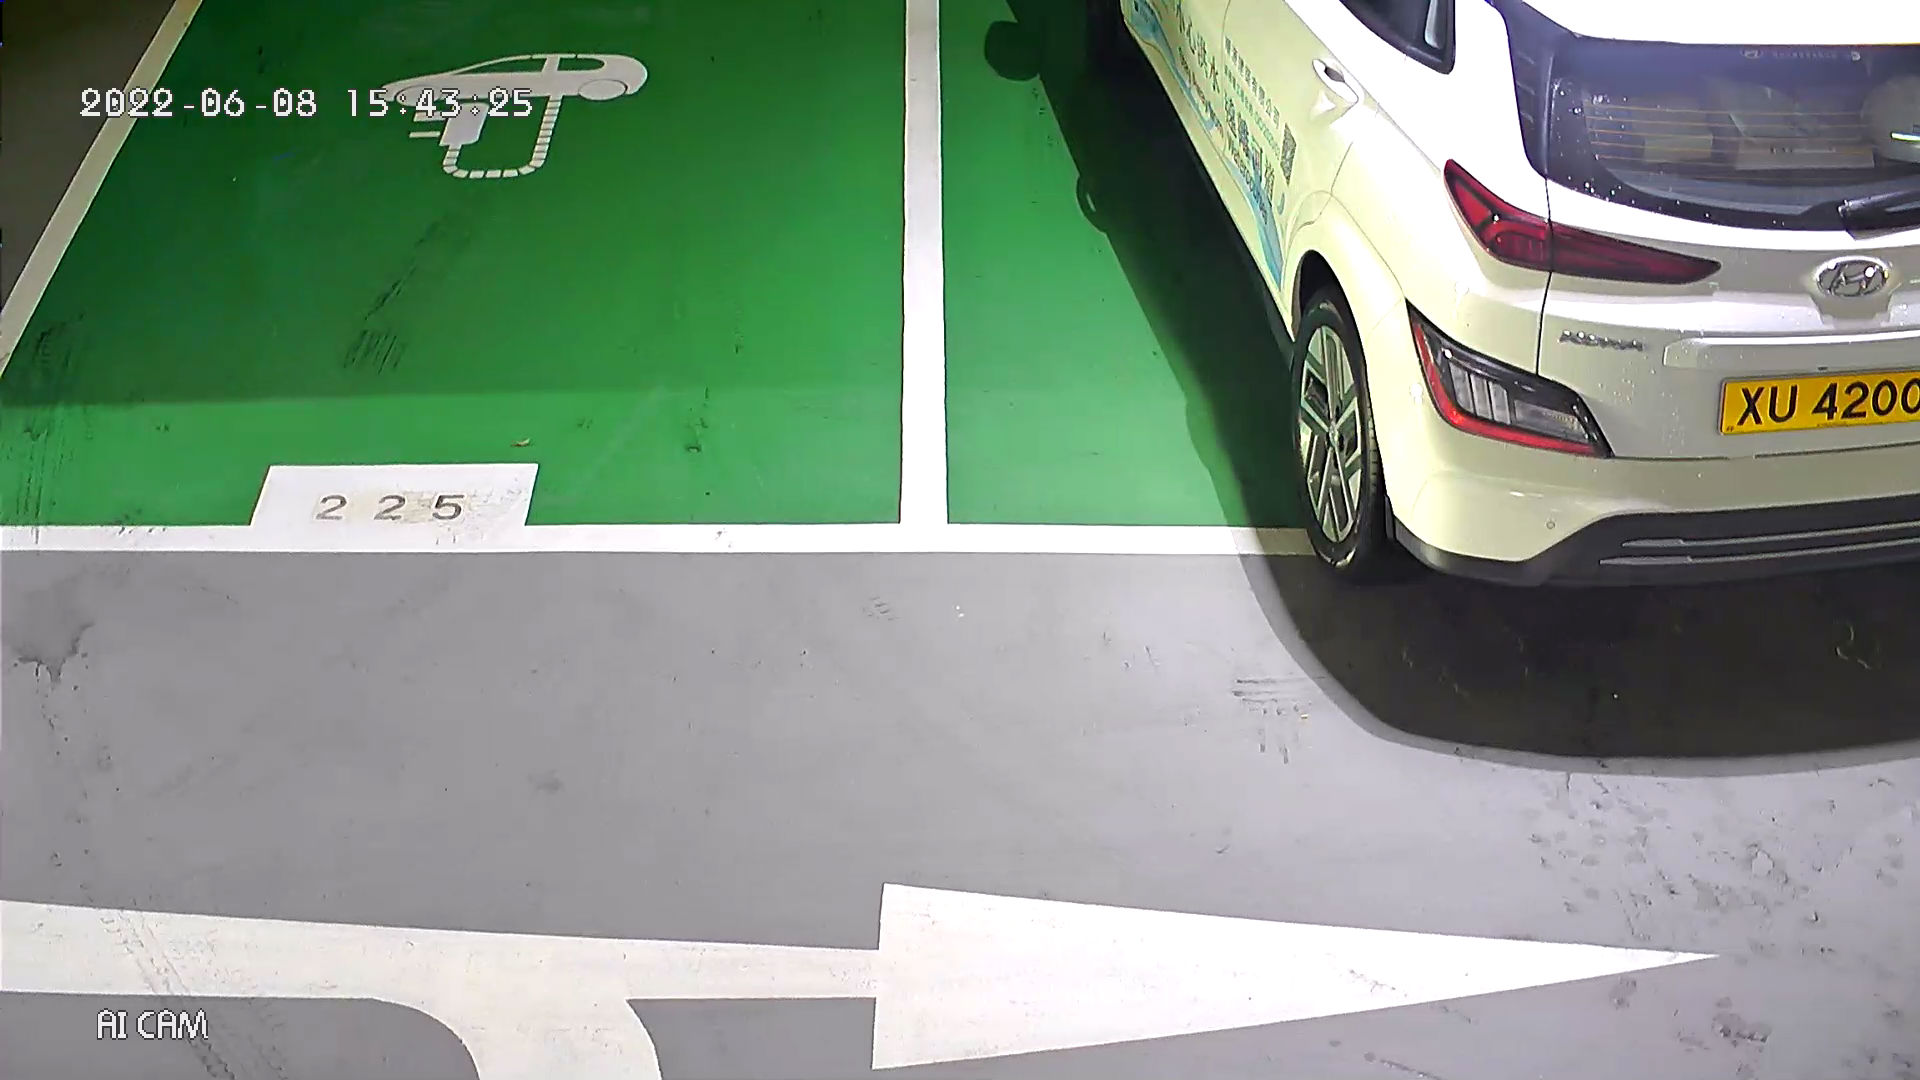car: (1093, 7, 1908, 790)
space: (9, 16, 996, 762)
